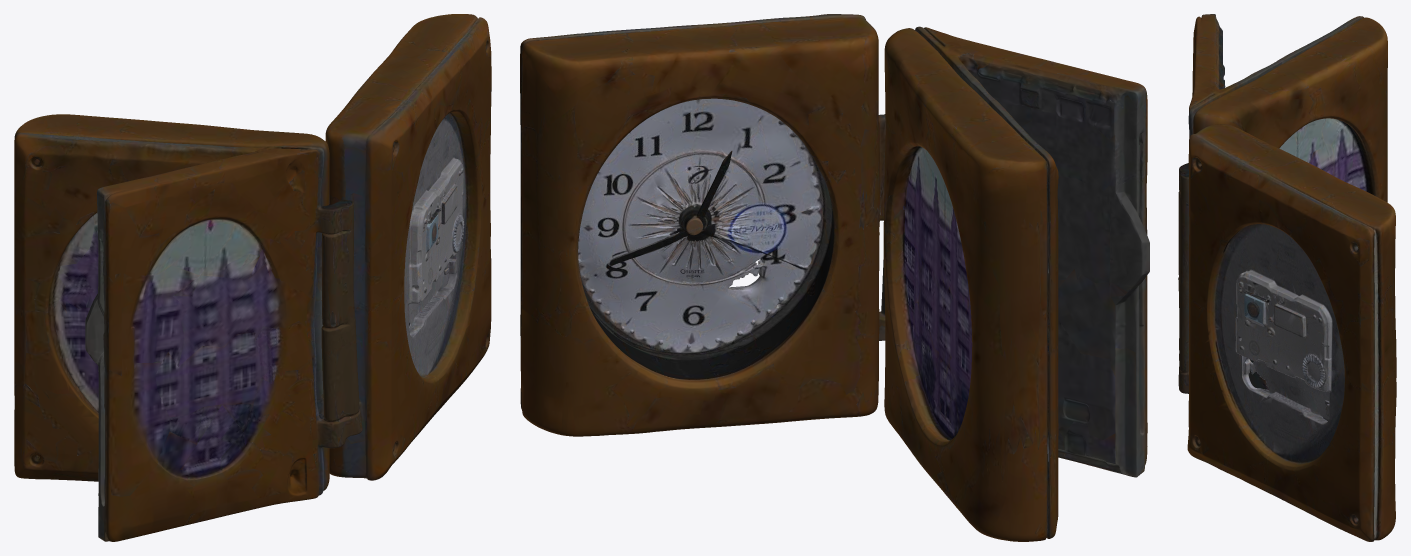
3 views of the same model, side by side, from view 1: azimuth 30°, elevation 25°; view 2: azimuth 150°, elevation 25°; view 3: azimuth 270°, elevation 25° (orthographic). The views are drawn at different scales.
Visible parts, largest first — view 1: 0; view 2: 0; view 3: 0.
Boxes of the visible parts, x1,y1,x2,y2 form: 0: (14, 14, 491, 541); 0: (520, 14, 1149, 541); 0: (1178, 14, 1396, 541).
Size of the model in its own units: 1.9 by 1.31 by 0.7983.
Materials: 1 (1 with a texture image).
